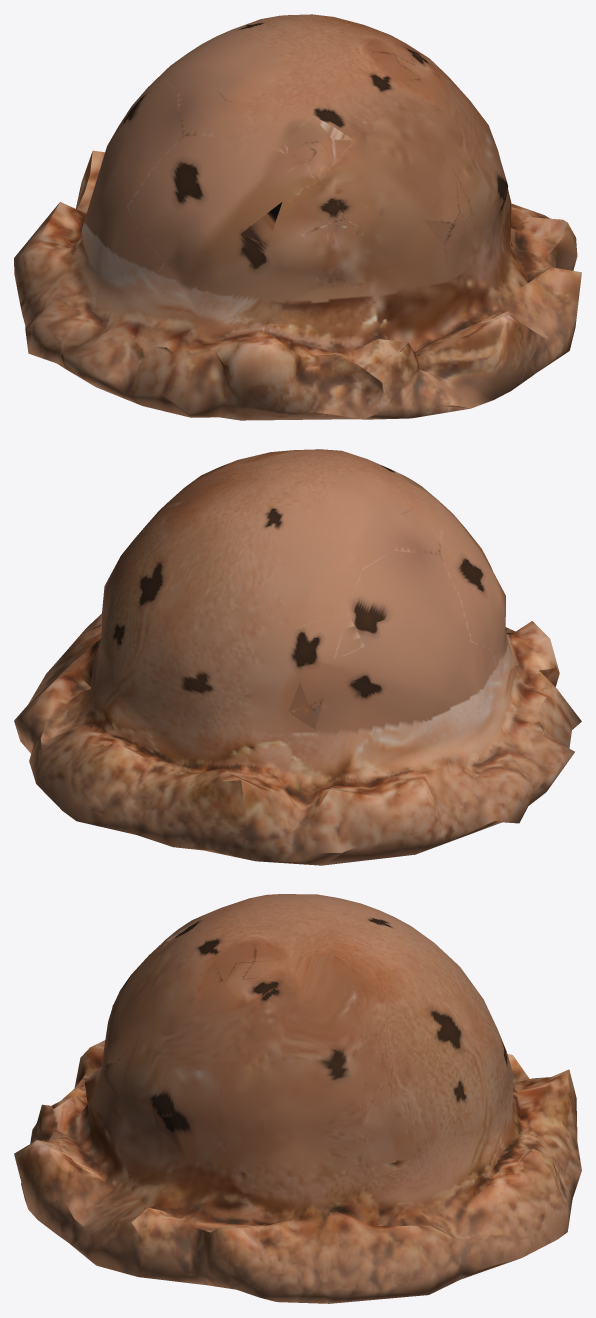
The model's file is Food_IceCreamChoco.fbx.
3 views of the same model, one above another, from view 1: azimuth 30°, elevation 25°; view 2: azimuth 150°, elevation 25°; view 3: azimuth 270°, elevation 25° (orthographic).
Visible parts, largest first — view 1: Food_IceCreamChoco; view 2: Food_IceCreamChoco; view 3: Food_IceCreamChoco.
Boxes of the visible parts, x1=… form: Food_IceCreamChoco: x1=14, y1=14, x2=581, y2=420; Food_IceCreamChoco: x1=14, y1=449, x2=581, y2=865; Food_IceCreamChoco: x1=14, y1=894, x2=581, y2=1303.
Bounding box in the file's own units: 0.2594 × 0.1407 × 0.26.
1 material, 1 textured.
